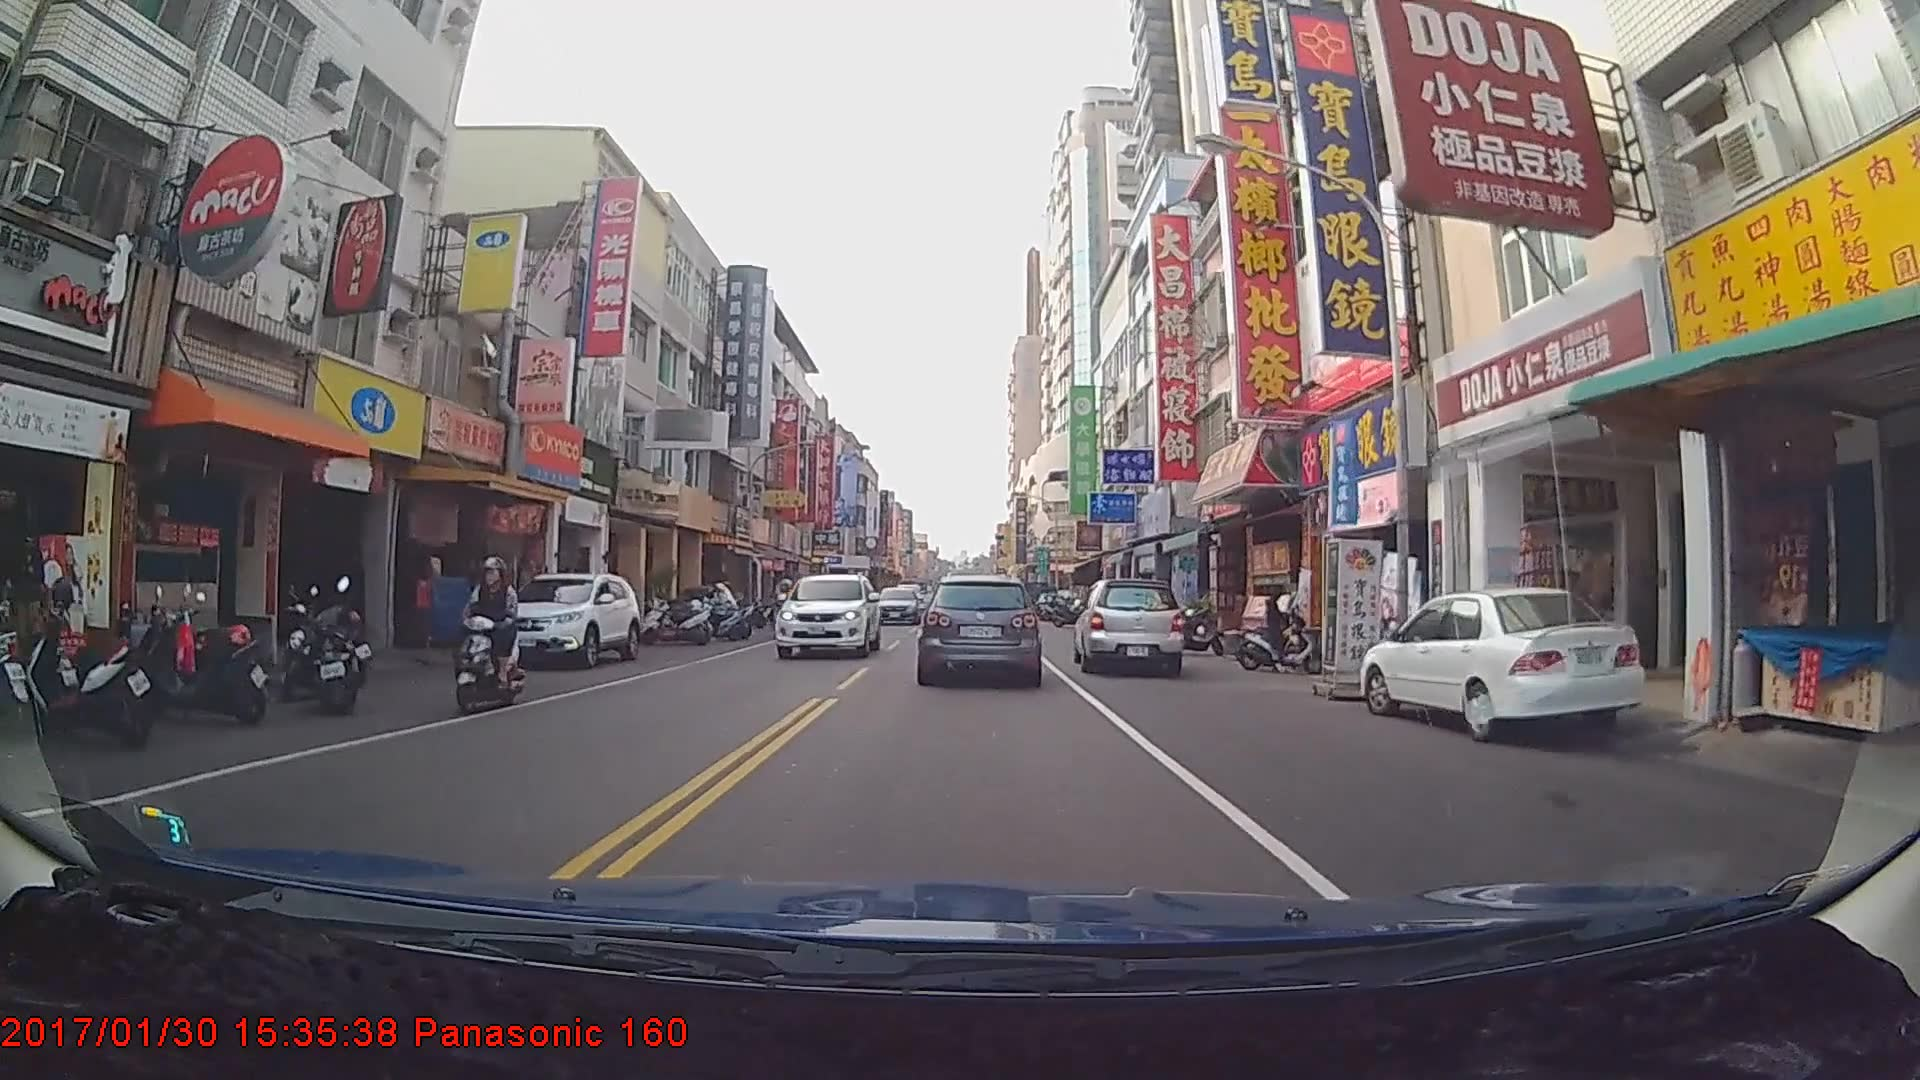rider: (455, 558, 531, 720), (1234, 578, 1331, 675)
vehicle: (1356, 588, 1647, 735), (483, 572, 639, 671), (920, 573, 1040, 684), (1074, 574, 1184, 676), (775, 571, 881, 657), (869, 584, 921, 624)
